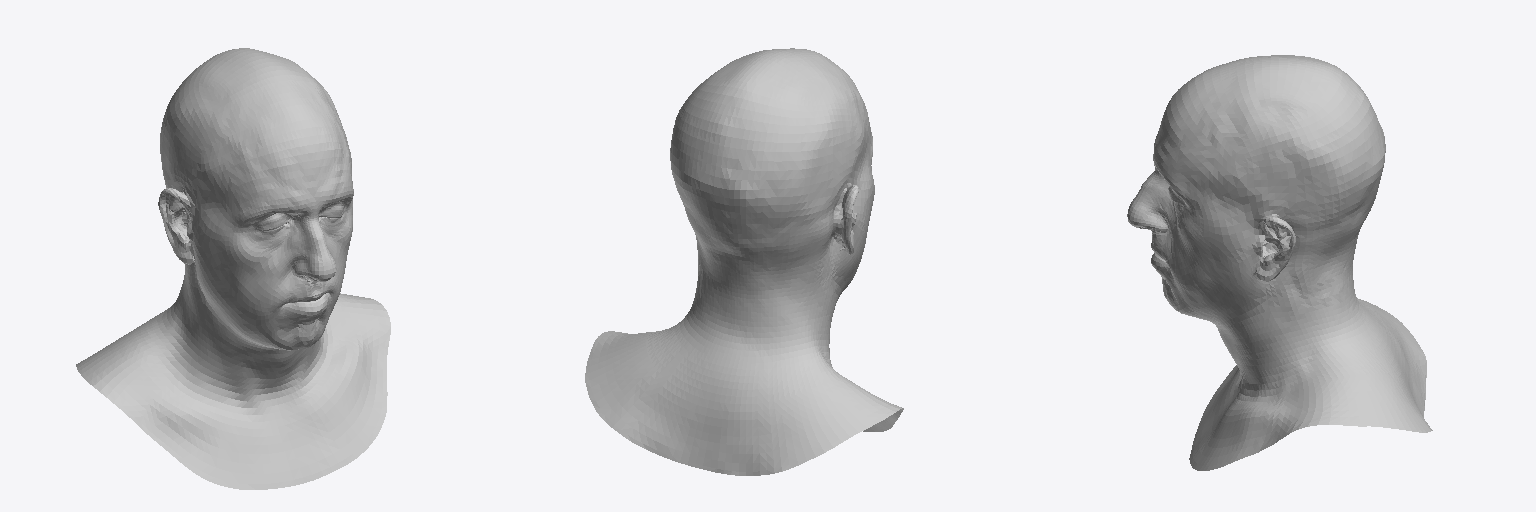
File: Head.OBJ
3 views of the same model, side by side, from view 1: azimuth 30°, elevation 25°; view 2: azimuth 150°, elevation 25°; view 3: azimuth 270°, elevation 25° (orthographic).
Visible parts, largest first — view 1: Group1, Group3, Group4, Group2; view 2: Group1, Group4, Group3; view 3: Group1, Group3, Group4.
Boxes of the visible parts, x1=… form: Group1: x1=76, y1=48, x2=390, y2=489; Group3: x1=195, y1=242, x2=338, y2=350; Group4: x1=158, y1=186, x2=195, y2=264; Group2: x1=246, y1=204, x2=346, y2=245; Group1: x1=585, y1=48, x2=903, y2=475; Group4: x1=827, y1=183, x2=858, y2=254; Group3: x1=837, y1=215, x2=867, y2=293; Group1: x1=1127, y1=55, x2=1432, y2=470; Group3: x1=1151, y1=248, x2=1260, y2=322; Group4: x1=1254, y1=210, x2=1295, y2=281.
Size of the model in its own units: 0.3006 by 0.3869 by 0.273.